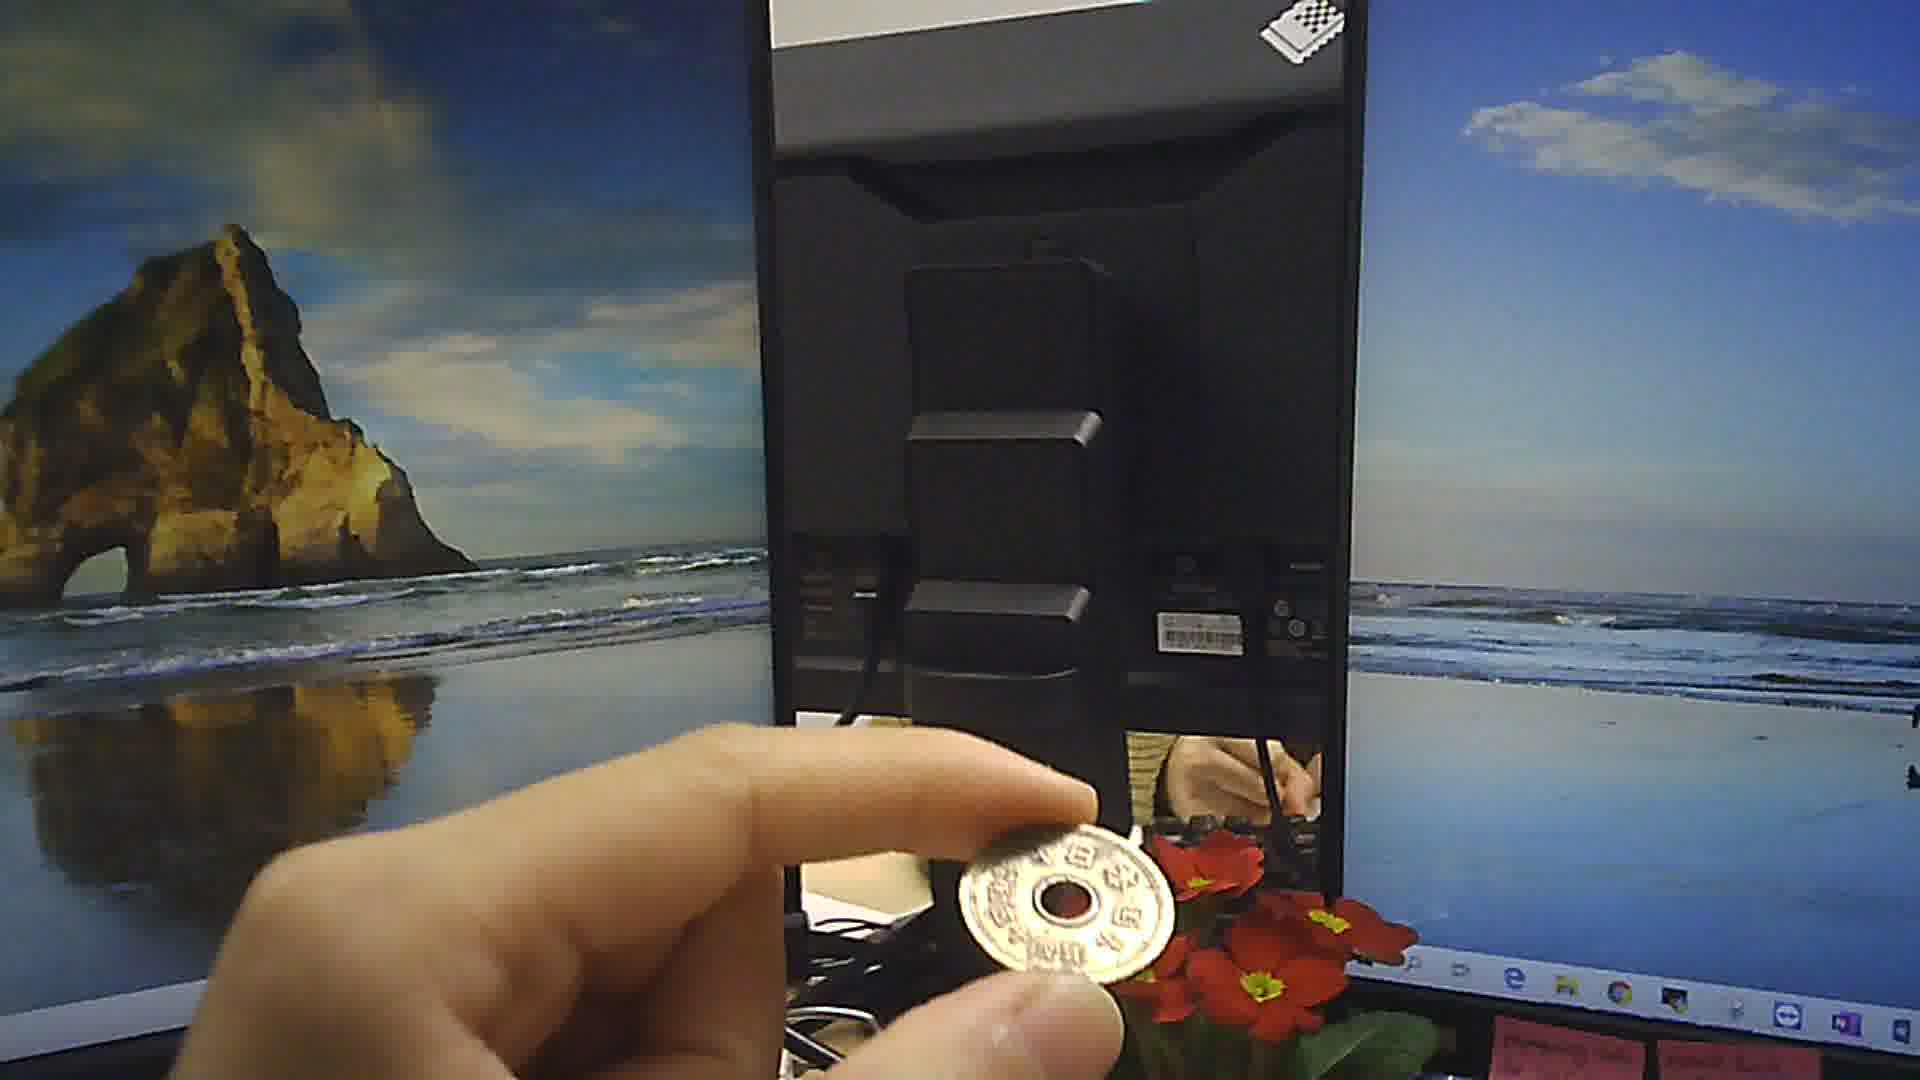5 Yen: (951, 806, 1184, 985)
